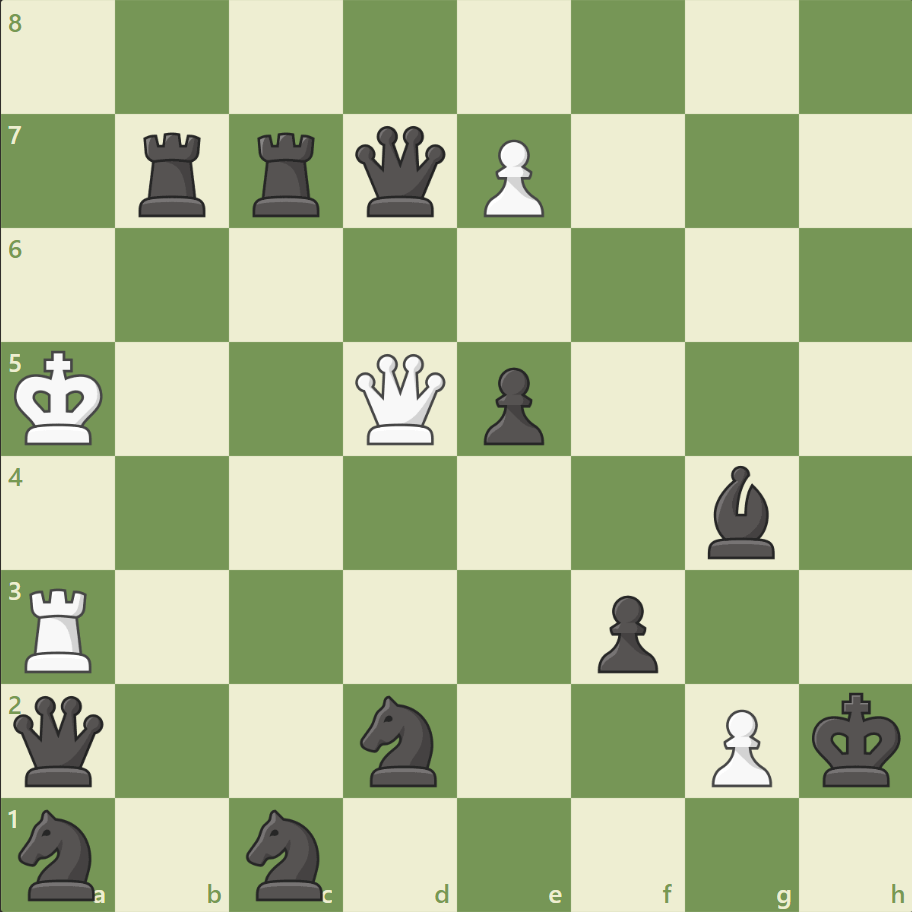K: (11, 344, 111, 452)
P: (474, 132, 549, 223), (701, 700, 776, 791)
Q: (351, 349, 450, 449)
R: (19, 579, 102, 676)
b: (698, 460, 782, 563)
k: (806, 685, 906, 793)
n: (351, 688, 449, 791), (11, 802, 108, 904), (238, 802, 335, 904)
p: (474, 359, 549, 450), (588, 586, 662, 677)
q: (351, 122, 450, 222), (10, 690, 109, 789)
r: (246, 125, 329, 222), (133, 125, 215, 222)
